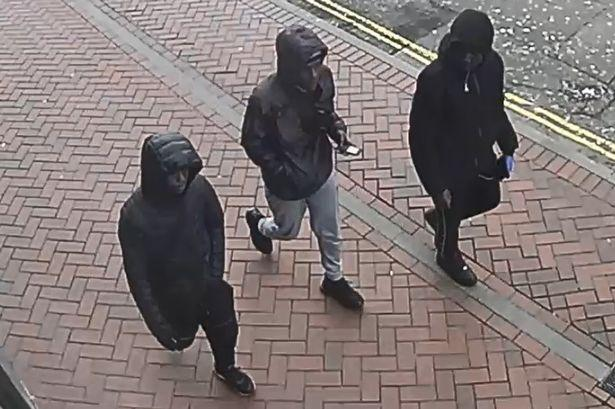person: (119, 129, 258, 397), (246, 24, 366, 307), (406, 9, 523, 288)
